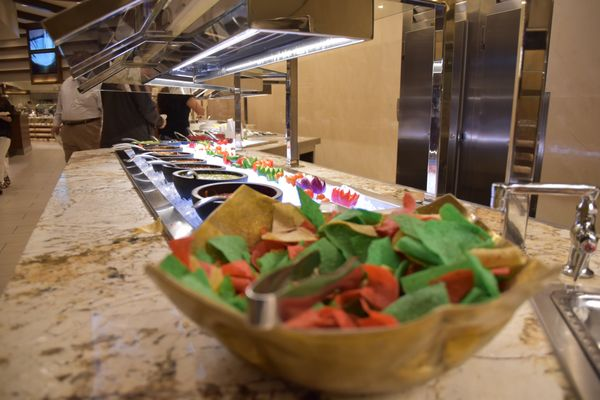sushi: (142, 170, 578, 393)
